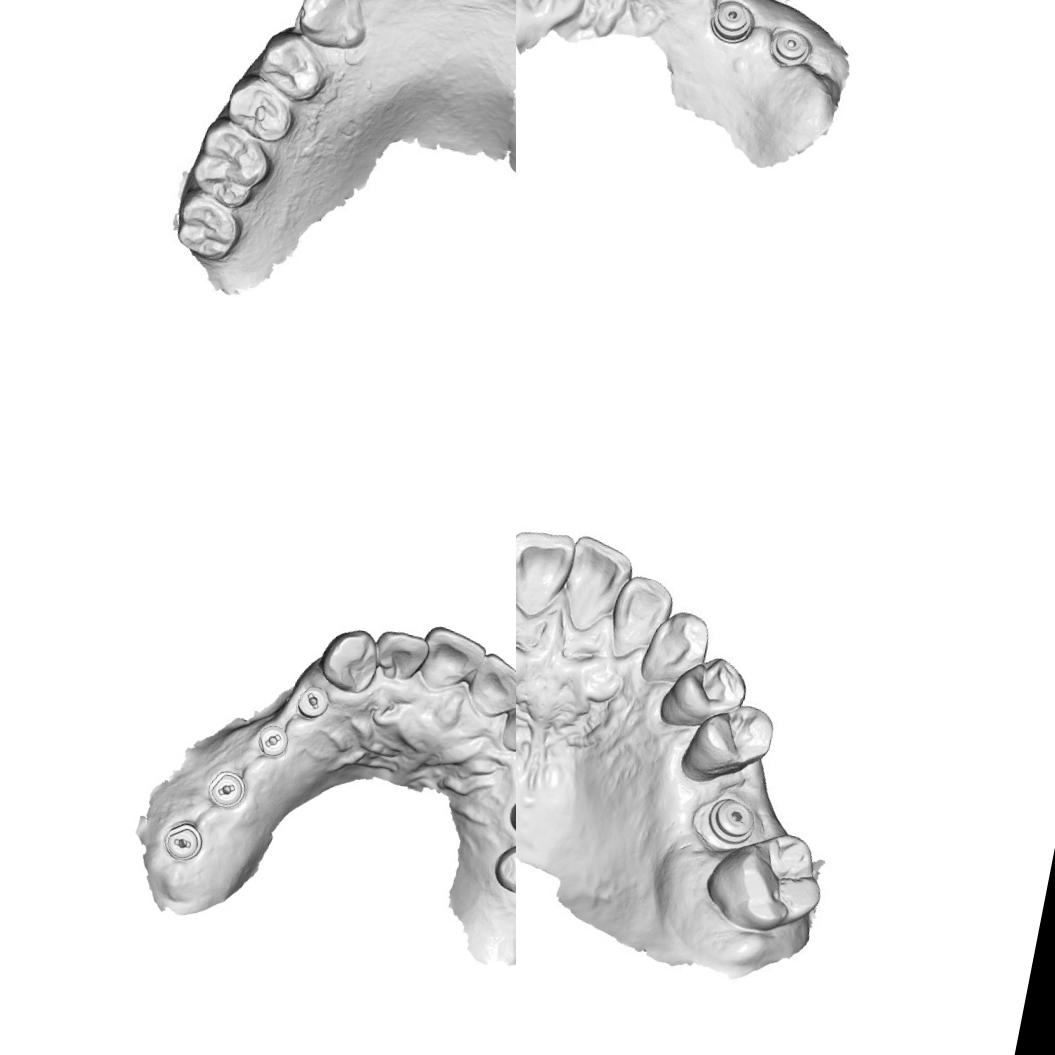canine: (638, 602, 716, 690), (314, 620, 384, 696), (292, 0, 377, 54)
implant: (690, 790, 775, 858), (762, 23, 817, 73), (704, 0, 759, 47)
implant_minus: (160, 817, 207, 866), (204, 766, 250, 814), (251, 718, 292, 764), (292, 682, 332, 722)
incisor: (556, 533, 636, 634), (608, 568, 676, 666), (516, 523, 575, 621), (414, 622, 489, 698), (464, 648, 516, 726), (370, 626, 432, 686), (499, 689, 516, 760)
molar: (696, 822, 834, 945), (184, 118, 274, 212), (170, 190, 240, 256)
premolar: (674, 694, 777, 794), (652, 652, 752, 741), (216, 70, 298, 152), (250, 27, 330, 103), (488, 836, 516, 902)
